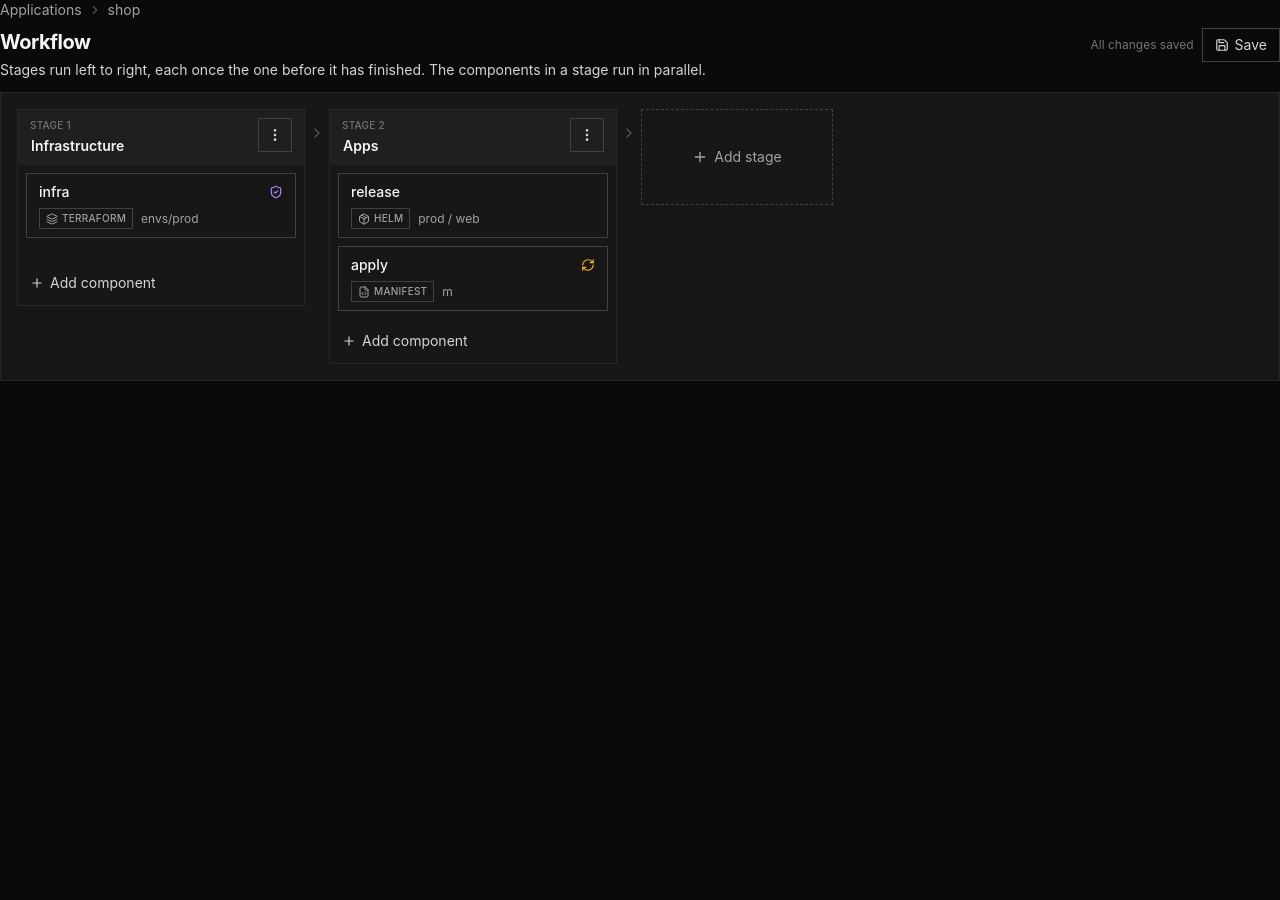
Test: WorkflowBuilder › deletes a component left running, saving straight away
Click the text "apply" at (369, 265), box [351, 255, 388, 275]
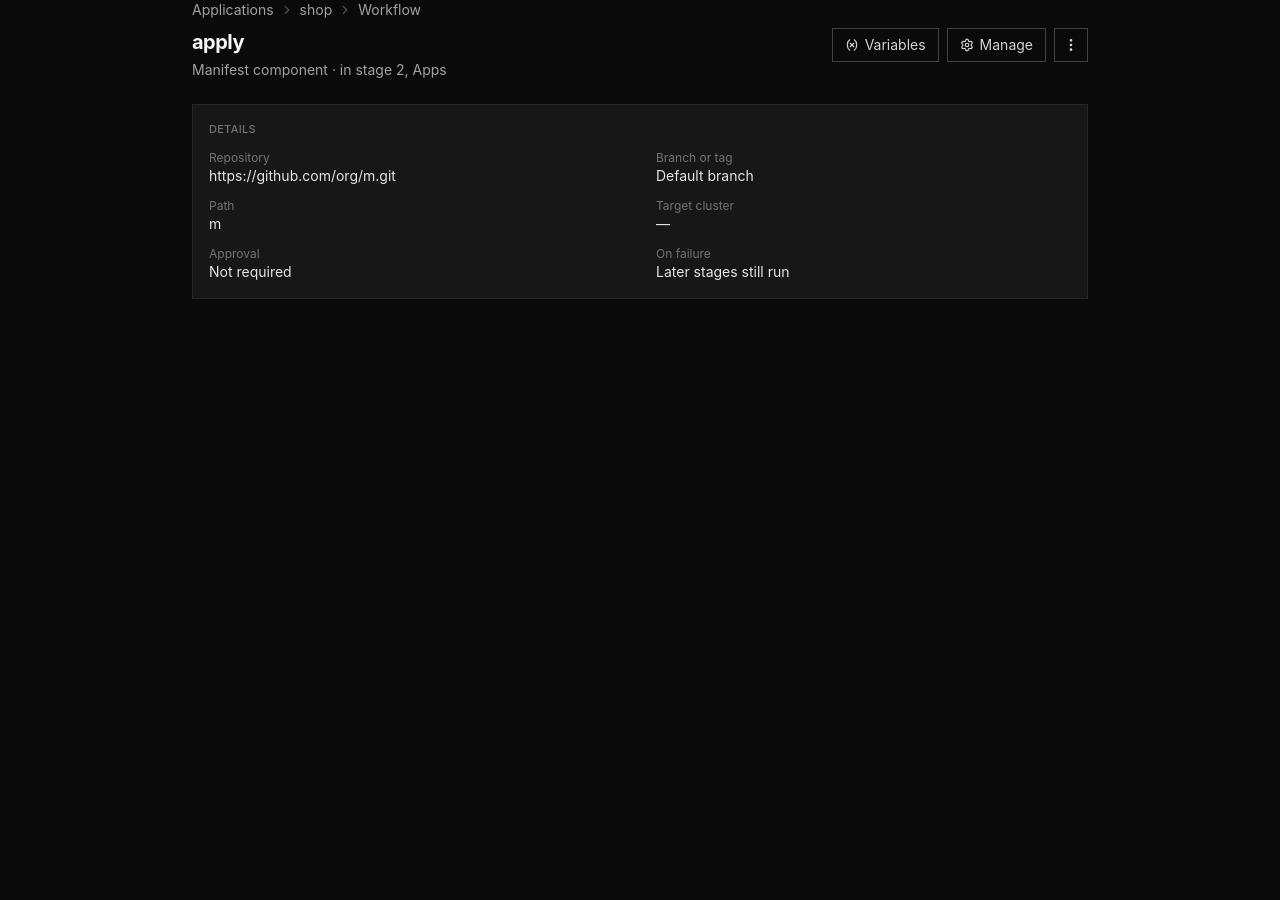
Click the button named "apply actions" at (1071, 45), box [1054, 28, 1088, 62]
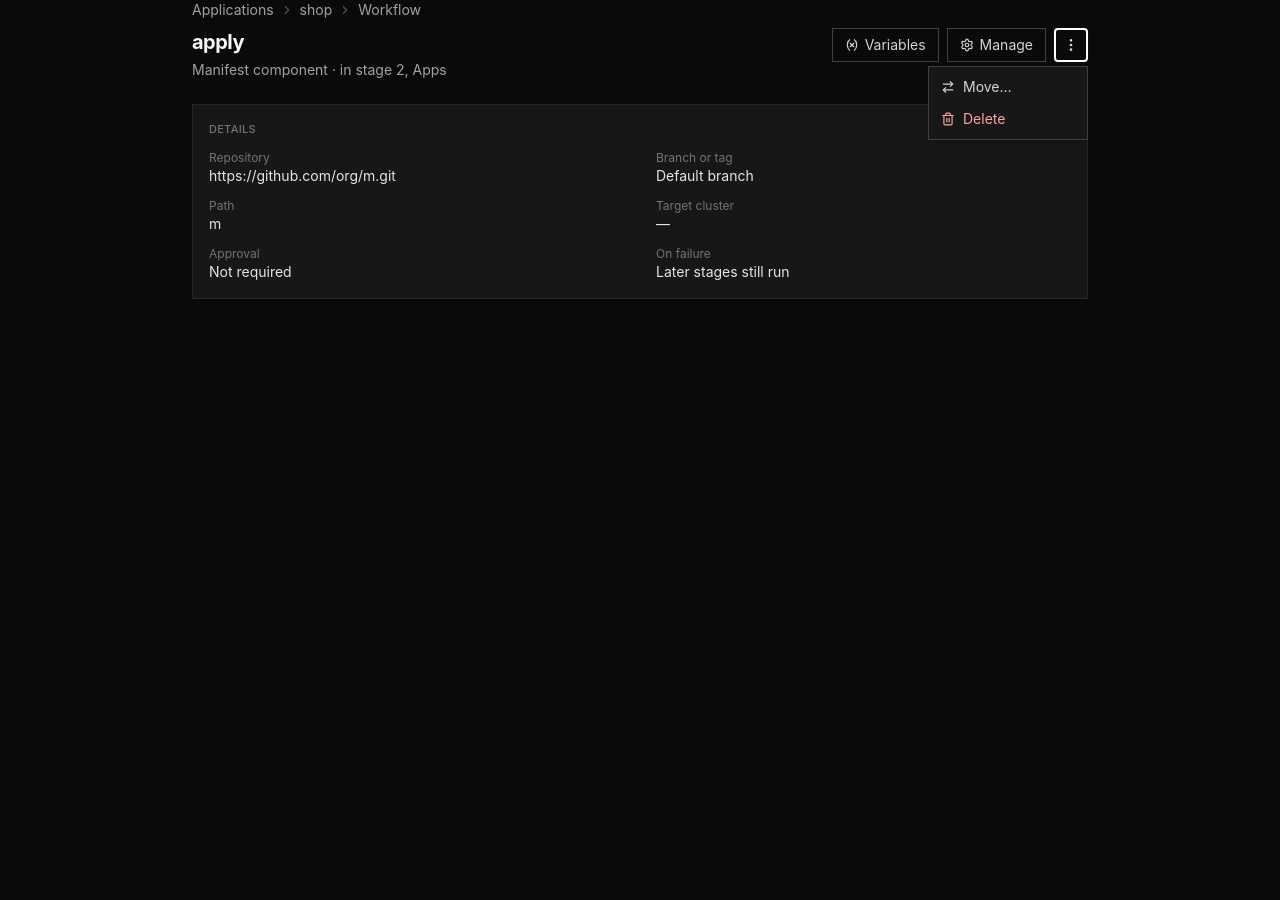
Click the menu item "Delete" at (1008, 119), box [929, 103, 1087, 135]
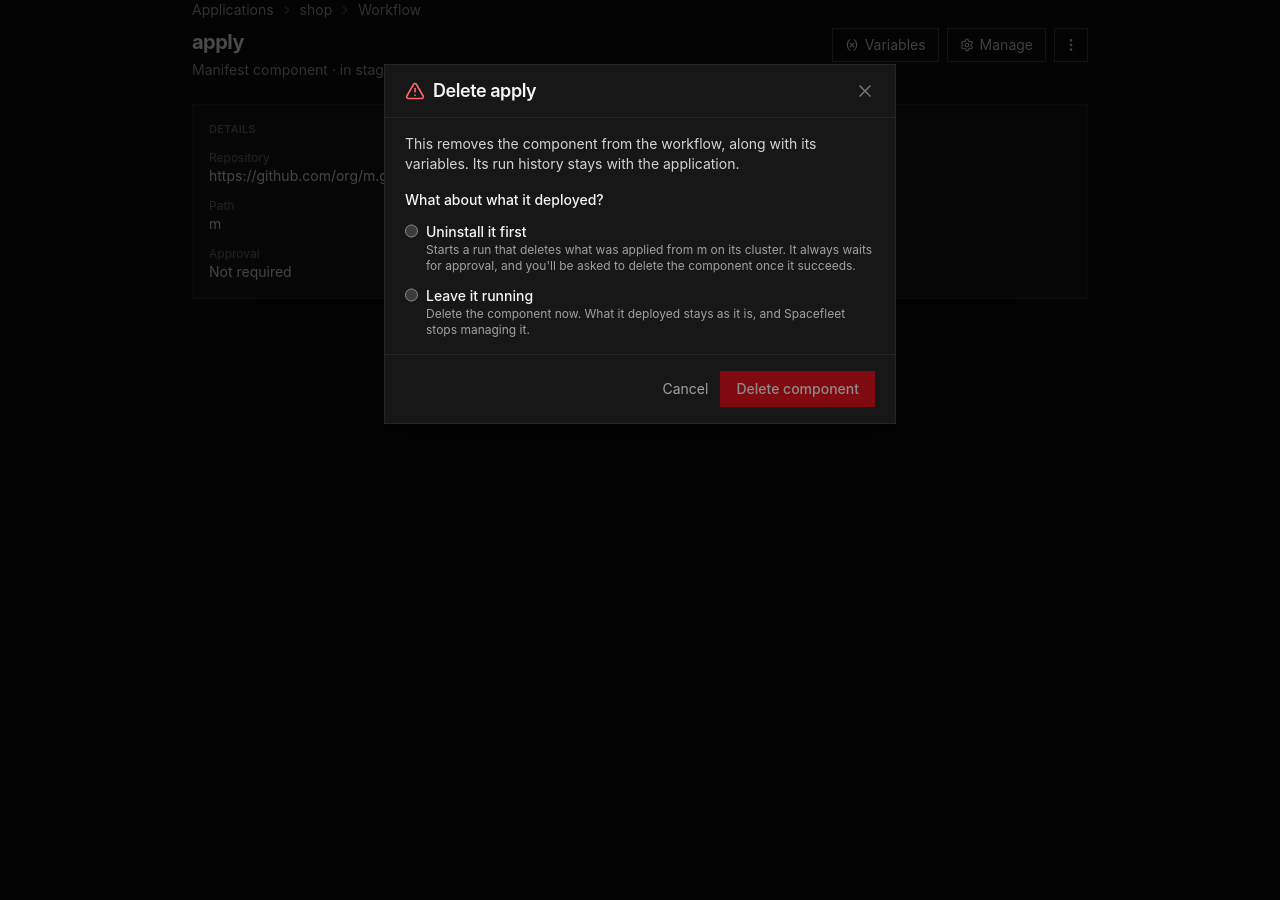
Click the 2nd radio button at (412, 295), box [405, 288, 418, 302]
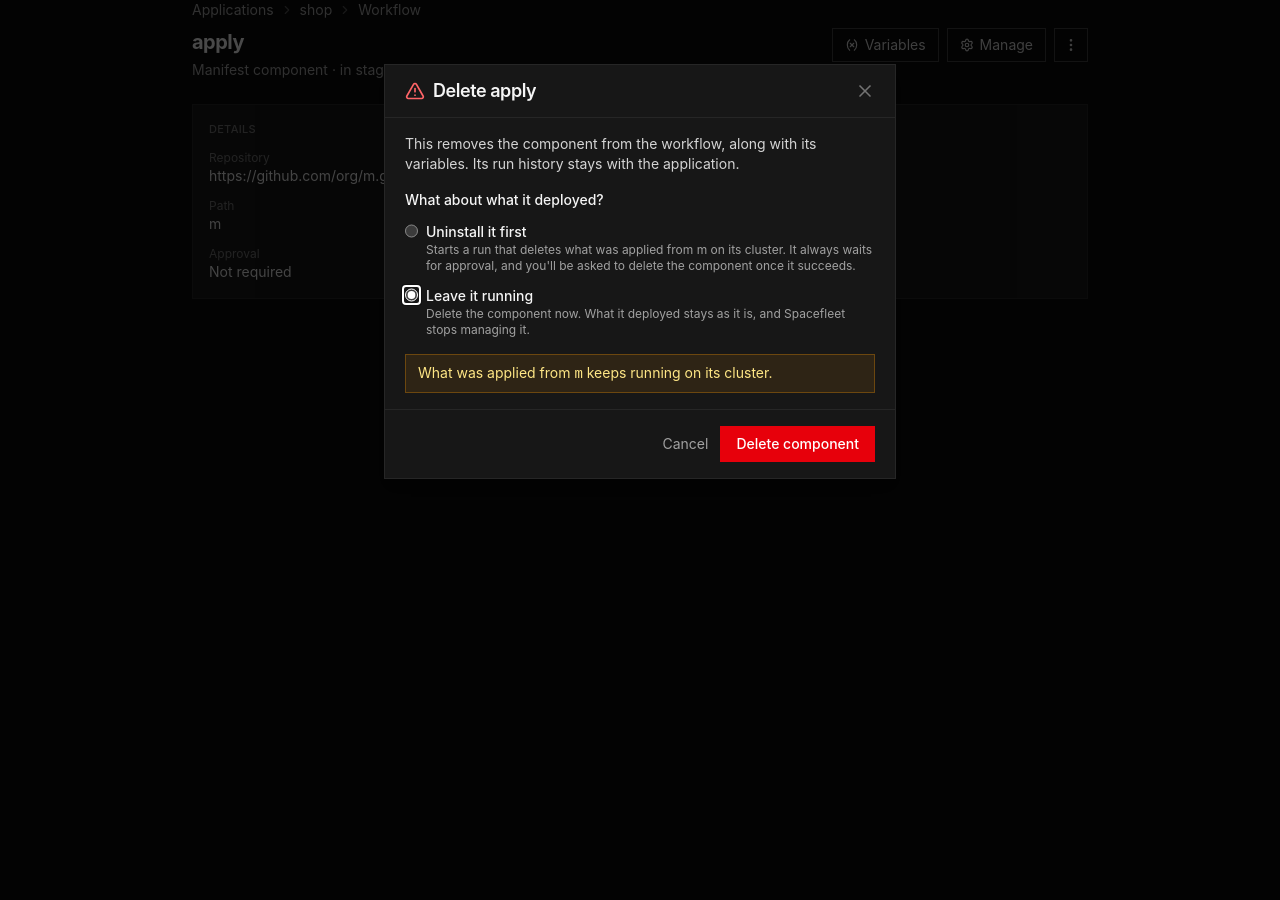
Click the button "Delete component" at (798, 444), box [720, 426, 875, 462]
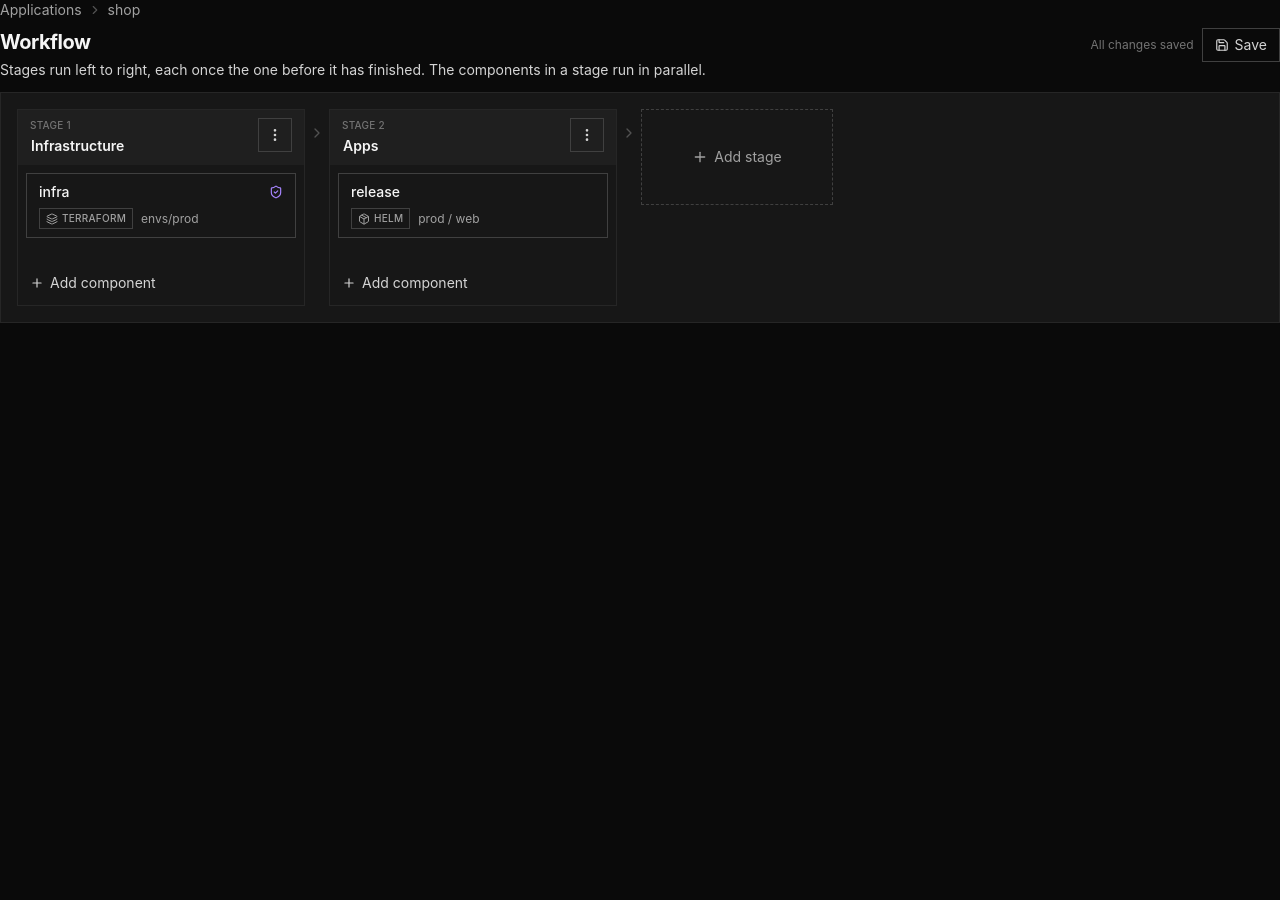
Expected: the element named "Stage Apps" is shown, [329, 109, 617, 306]
Expected: the heading "apply" is gone
